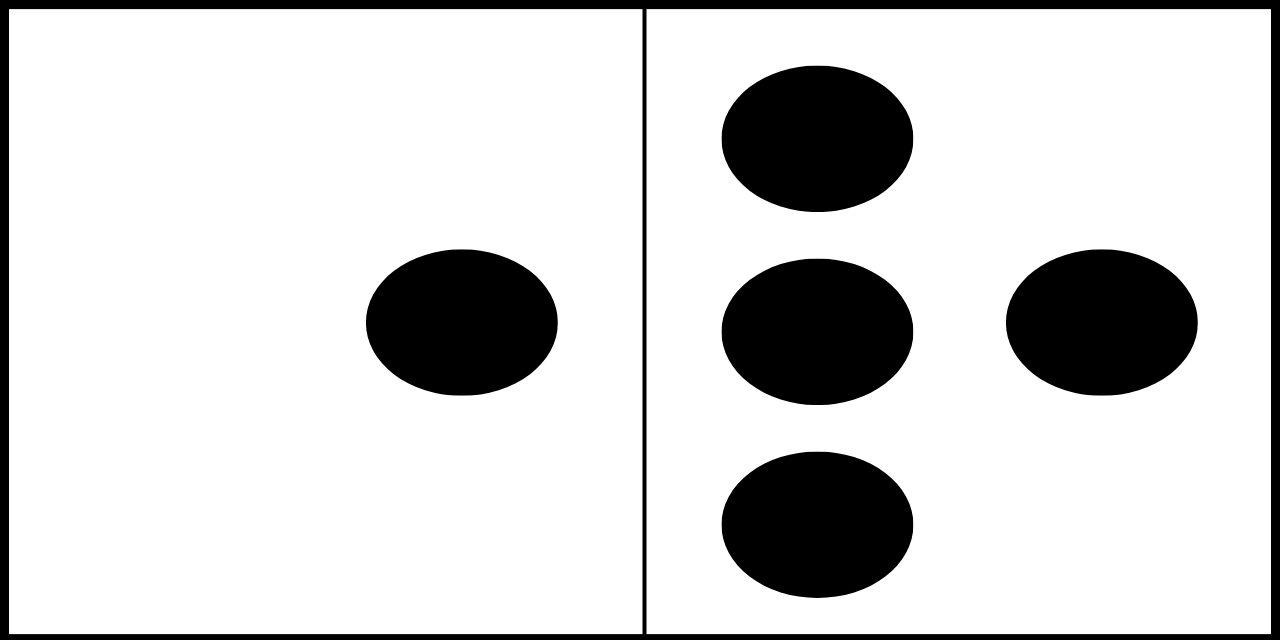dot_5: (90, 63, 561, 601)
two_cell_alphabet_roon: (720, 64, 1198, 600)
